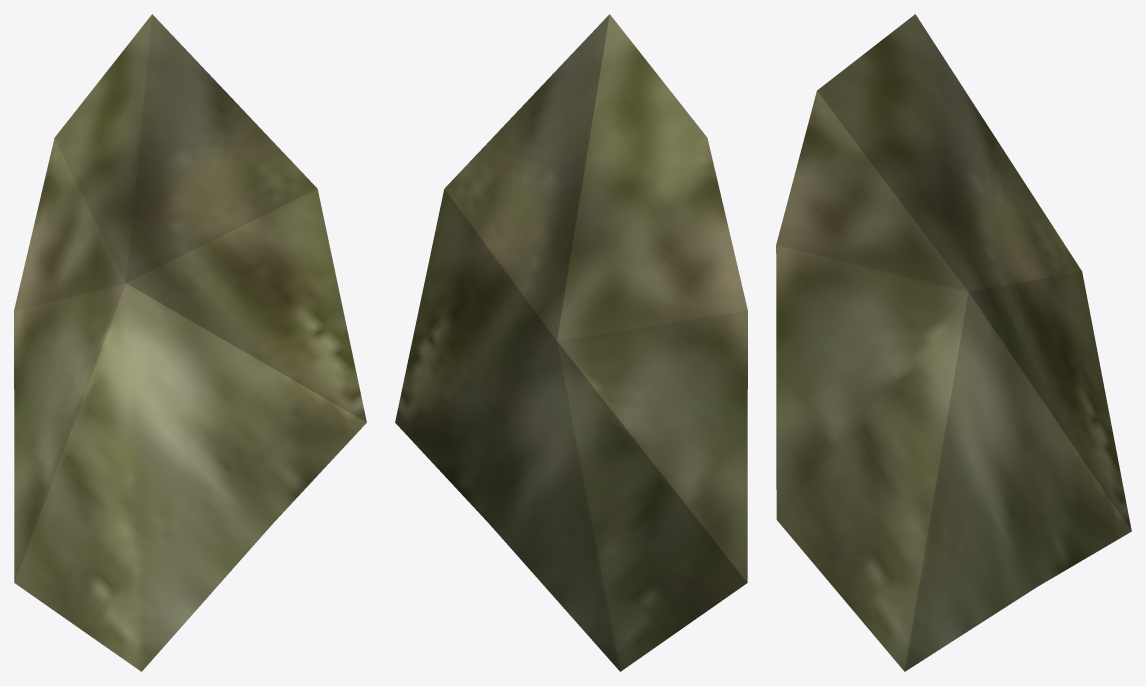
The picture shows the model from 3 angles, left to right: view 1: azimuth 30°, elevation 25°; view 2: azimuth 150°, elevation 25°; view 3: azimuth 330°, elevation 25°; orthographic projection.
Bounding box in the file's own units: 0.4472 × 0.7937 × 0.0866.
Materials: 1 (1 with a texture image).
